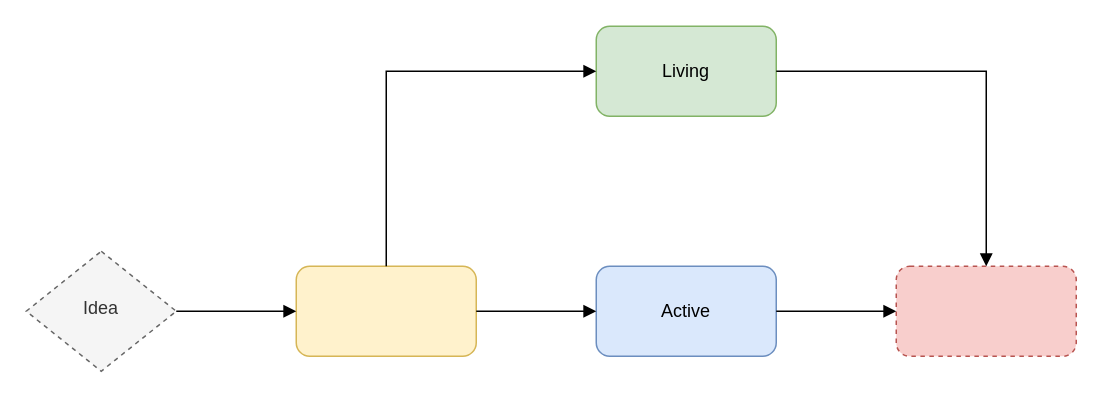
Image size: 1103x398. Some labels were removed from this diagram. The box of each missing label's shape, as (x1, y1, x2, y2) in pixels:
Deprecated: (895, 265, 1076, 356)
Draft: (295, 265, 476, 356)
